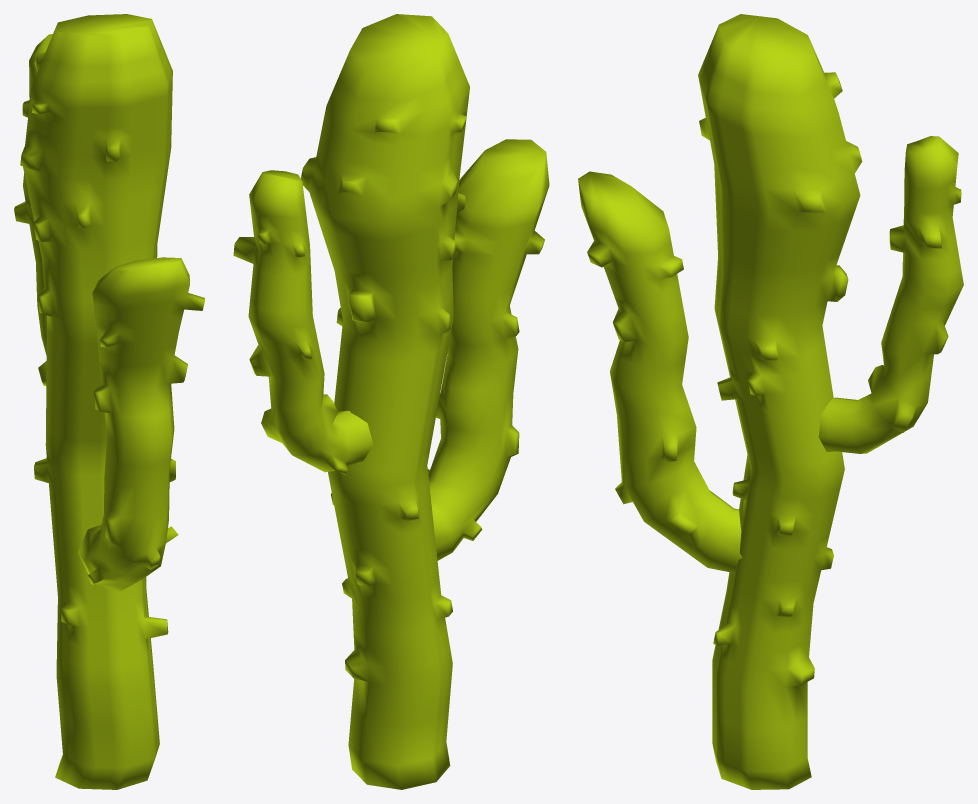
The model's file is Cactus2.fbx.
3 renders of one model, left to right at view 1: azimuth 30°, elevation 25°; view 2: azimuth 150°, elevation 25°; view 3: azimuth 270°, elevation 25°, orthographic. The views are drawn at different scales.
Visible parts, largest first — view 1: cactus-RAM.004; view 2: cactus-RAM.004; view 3: cactus-RAM.004.
Part boxes in pixels (bbox=[...]): cactus-RAM.004: bbox=[14, 14, 204, 789]; cactus-RAM.004: bbox=[233, 14, 549, 789]; cactus-RAM.004: bbox=[578, 14, 963, 789].
Bounding box in the file's own units: 62.45 × 283 × 133.
